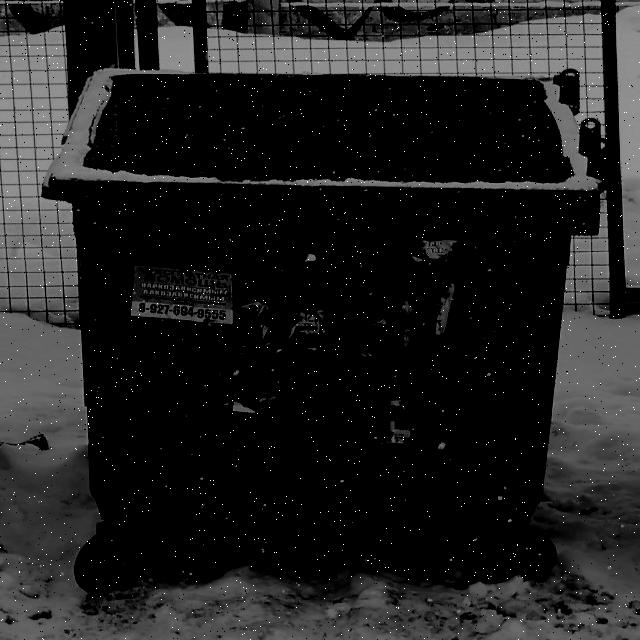Trashcan: (30, 35, 591, 585)
